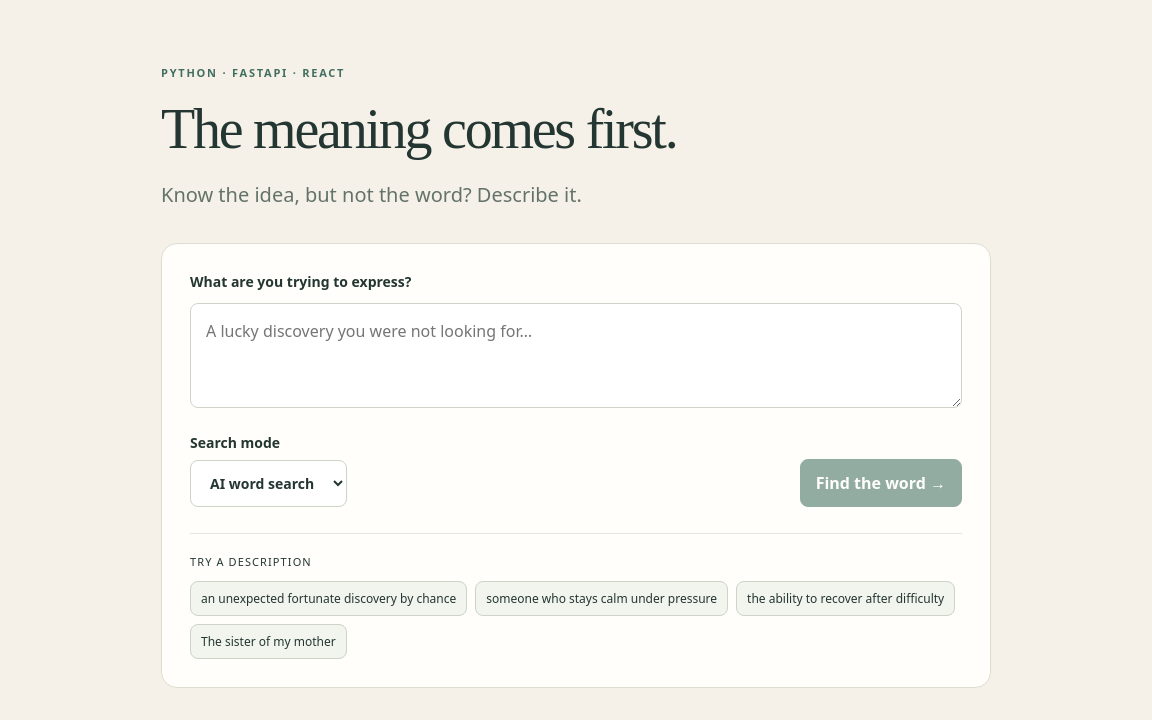
defaults to AI and transparently falls back after a provider failure
Check: the dropdown labelled "Search mode" shows "AI word search", box [190, 460, 347, 507]
In the text box labelled "What are you trying to express?": coordinates (576, 356) [190, 303, 962, 408], type "fortunate discovery"
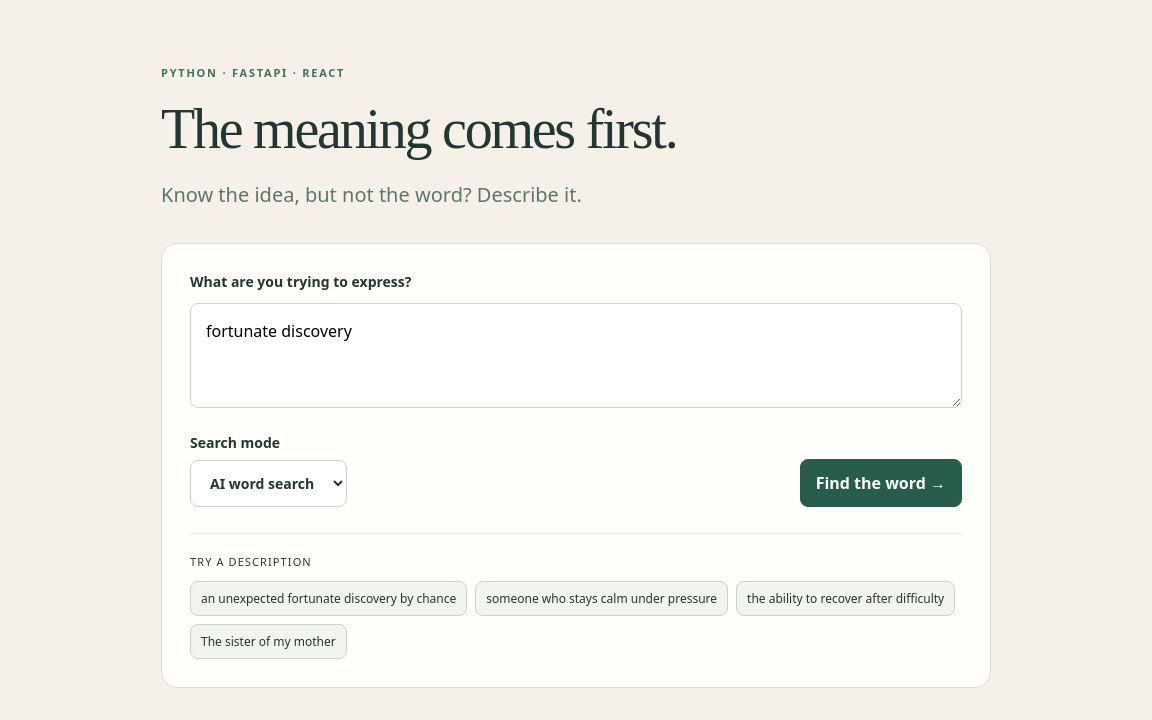
Click the button "Find the word →": coordinates (881, 483) [800, 459, 962, 507]
(page scrolled)
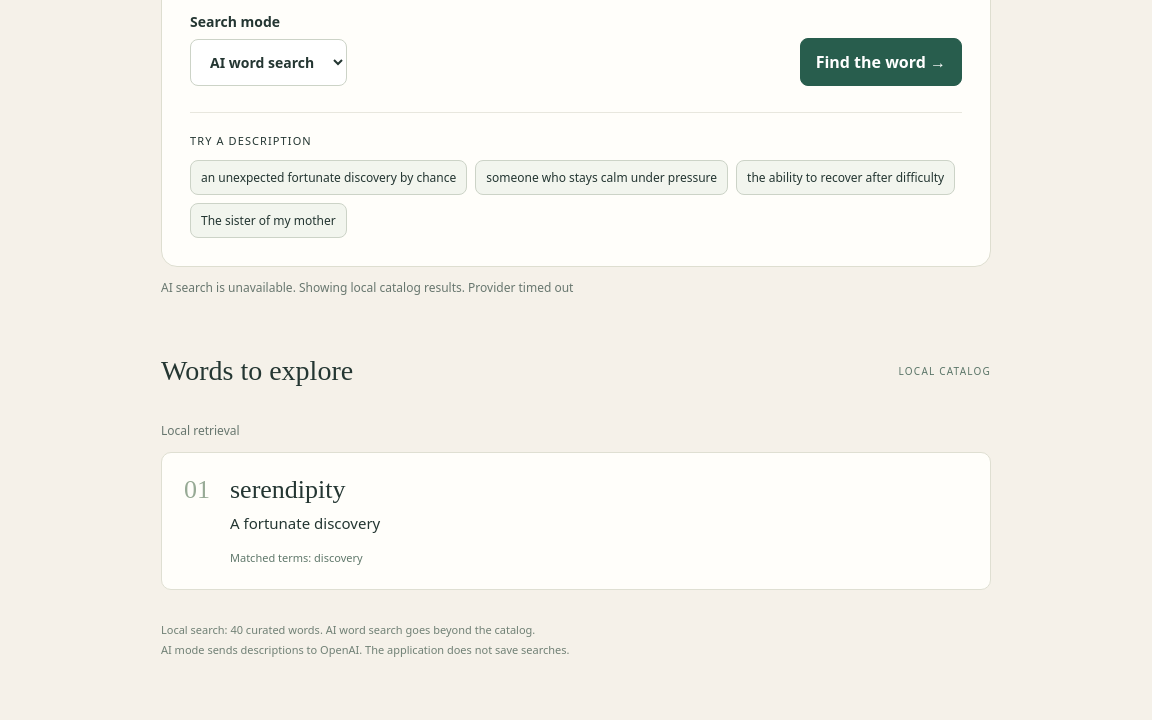
Check: the heading "serendipity" is shown, box [230, 476, 346, 504]
Check: the message shows "AI search is unavailable. Showing local catalog results.", box [161, 279, 573, 296]
Check: the text "LOCAL CATALOG" is shown, box [899, 364, 991, 378]
